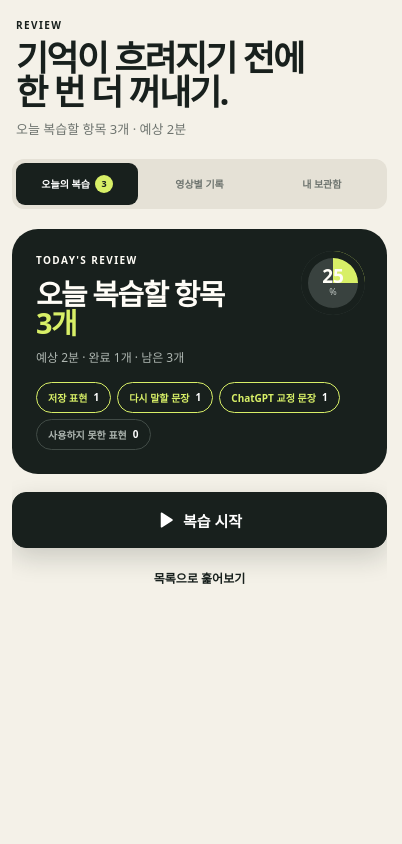
it: Review tab shell › separates the three areas with a segmented control
The width and height of the screenshot is (402, 844).
Expected: the button "복습 시작" is shown, [12,492,387,548]
Click the tab "영상별 기록": x=199, y=184 [138,163,261,205]
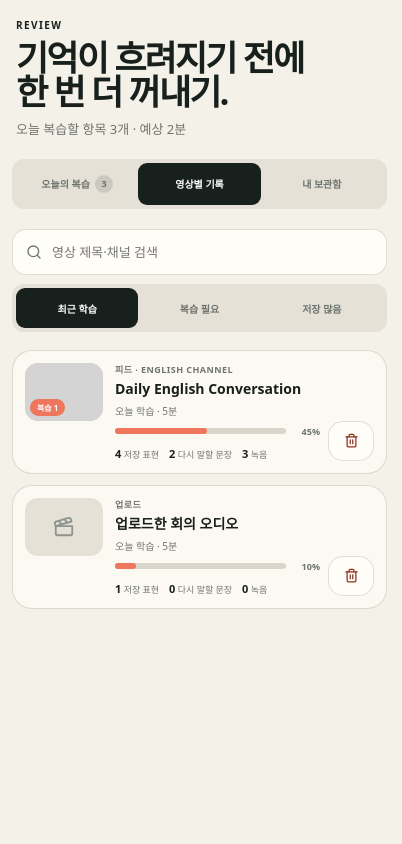
Expected: the text "Daily English Conversation" is shown, [115,380,320,399]
